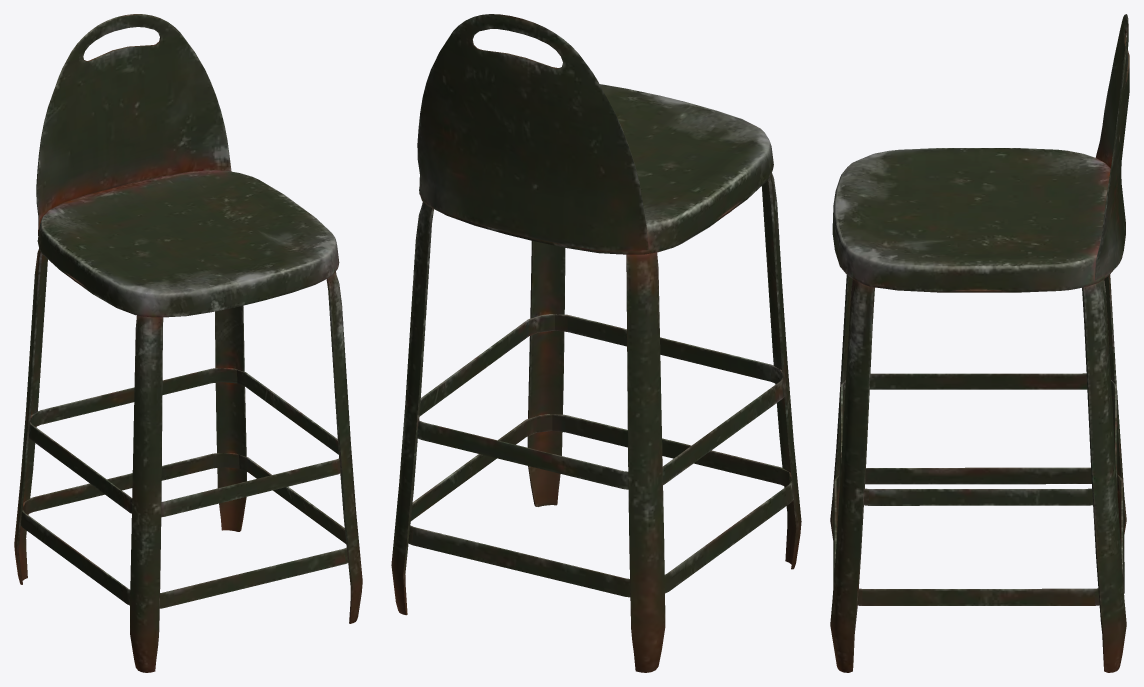
File: metal_stool_03.glb
3 renders of one model, left to right at view 1: azimuth 30°, elevation 25°; view 2: azimuth 150°, elevation 25°; view 3: azimuth 270°, elevation 25°, orthographic. The views are drawn at different scales.
Visible parts, largest first — view 1: metal_stool_03; view 2: metal_stool_03; view 3: metal_stool_03.
Boxes of the visible parts, bbox=[...] form: metal_stool_03: bbox=[14, 14, 362, 672]; metal_stool_03: bbox=[391, 14, 801, 672]; metal_stool_03: bbox=[830, 14, 1129, 672].
Size of the model in its own units: 0.4606 by 1.02 by 0.47.
Materials: 1 (1 with a texture image).
